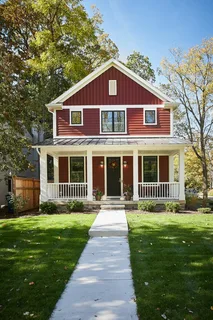private_hause: (40, 59, 190, 211)
